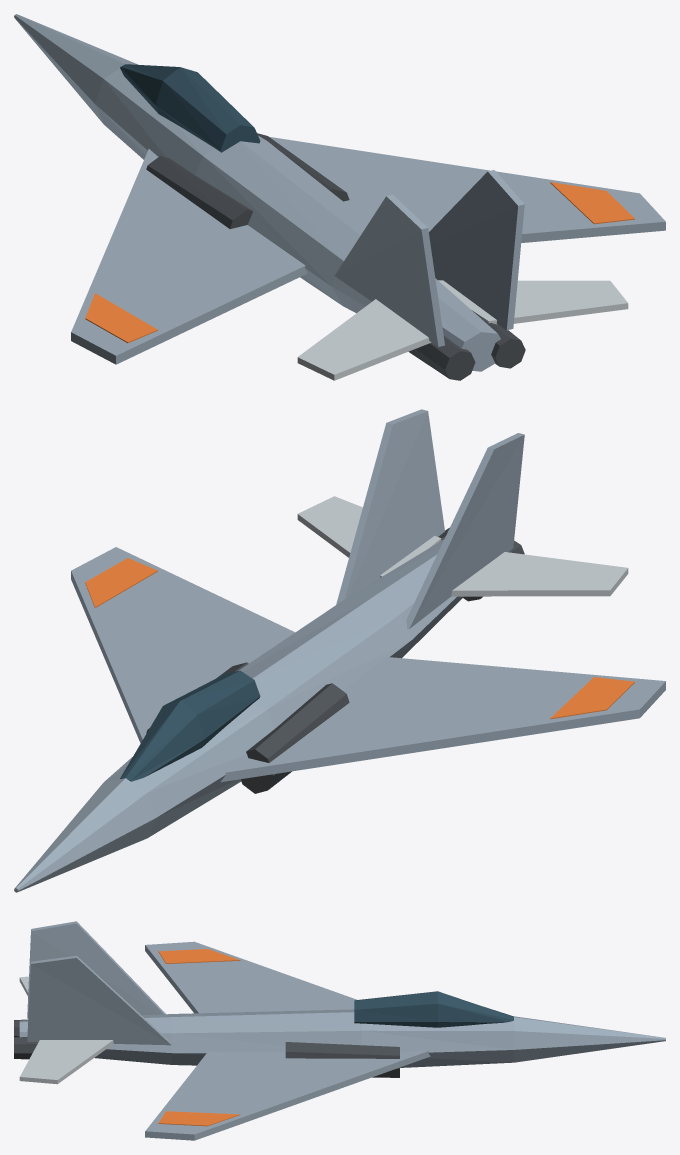
Rendered from astra-interceptor.glb.
The picture shows the model from 3 angles, top to bottom: view 1: azimuth 30°, elevation 25°; view 2: azimuth 150°, elevation 25°; view 3: azimuth 270°, elevation 25°; orthographic projection. The views are drawn at different scales.
Visible parts, largest first — view 1: fuselage, wing_L, wing_R, fin_R, fin_L, canopy, stabilizer_L, stabilizer_R, intake_L, livery_wing_R, livery_wing_L, exhaust_L (+2 smaller); view 2: fuselage, wing_L, wing_R, fin_R, fin_L, canopy, stabilizer_L, intake_L, stabilizer_R, livery_wing_L, livery_wing_R; view 3: fuselage, wing_R, fin_R, wing_L, canopy, fin_L, stabilizer_R, intake_R, livery_wing_L, livery_wing_R, exhaust_R.
Boxes of the visible parts, left/top/right/bottom form: fuselage: left=14, top=14, right=500, bottom=371; wing_L: left=71, top=149, right=307, bottom=364; wing_R: left=269, top=137, right=665, bottom=242; fin_R: left=429, top=170, right=524, bottom=330; fin_L: left=334, top=194, right=444, bottom=346; canopy: left=120, top=64, right=260, bottom=152; stabilizer_L: left=297, top=299, right=431, bottom=380; stabilizer_R: left=438, top=280, right=628, bottom=324; intake_L: left=146, top=155, right=252, bottom=228; livery_wing_R: left=550, top=182, right=634, bottom=224; livery_wing_L: left=85, top=293, right=157, bottom=343; exhaust_L: left=408, top=336, right=475, bottom=380; fuselage: left=14, top=539, right=463, bottom=892; wing_L: left=220, top=657, right=665, bottom=782; wing_R: left=71, top=547, right=294, bottom=743; fin_R: left=336, top=409, right=444, bottom=604; fin_L: left=406, top=433, right=524, bottom=628; canopy: left=120, top=670, right=260, bottom=781; stabilizer_L: left=451, top=552, right=628, bottom=596; intake_L: left=241, top=683, right=349, bottom=793; stabilizer_R: left=297, top=496, right=441, bottom=577; livery_wing_L: left=550, top=677, right=634, bottom=719; livery_wing_R: left=85, top=558, right=157, bottom=607; fuselage: left=19, top=1009, right=665, bottom=1067; wing_R: left=145, top=1051, right=430, bottom=1140; fin_R: left=27, top=955, right=171, bottom=1045; wing_L: left=145, top=941, right=357, bottom=1013; canopy: left=354, top=991, right=513, bottom=1027; fin_L: left=27, top=921, right=165, bottom=1018; stabilizer_R: left=19, top=1040, right=113, bottom=1084; intake_R: left=285, top=1042, right=399, bottom=1077; livery_wing_L: left=158, top=949, right=240, bottom=963; livery_wing_R: left=158, top=1111, right=240, bottom=1126; exhaust_R: left=14, top=1037, right=38, bottom=1059.
Bounding box in the file's own units: 12 × 3.7 × 17.15.
